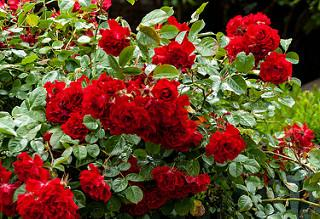rose: (17, 179, 82, 219), (154, 164, 213, 201), (206, 124, 249, 166), (48, 82, 89, 126), (135, 102, 167, 146), (244, 21, 282, 58), (98, 20, 133, 60), (162, 116, 199, 153), (112, 94, 146, 133), (154, 43, 197, 73), (12, 153, 51, 186), (82, 163, 114, 202), (261, 53, 296, 87), (81, 84, 113, 121), (151, 78, 184, 110), (64, 113, 94, 143), (225, 36, 248, 64)
